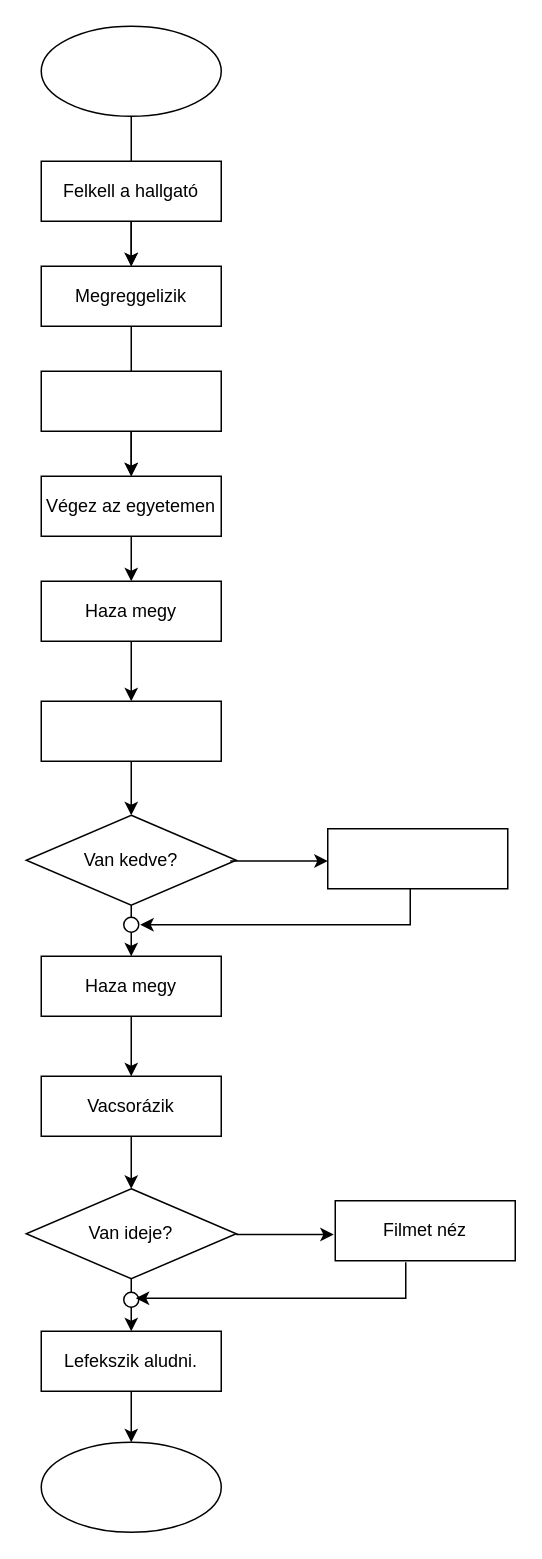
Some shapes in this 542 by 1559 pixel diagram are drawn without their labels. The shapes that lost their labels are listed below. From the top down, each one's centre as x and y in pixels, then its label:
At point 130,70: "START".
At point 130,400: "Elmegy az egyetemre".
At point 130,730: "Tanul".
At point 417,858: "Elmegy kávézni".
At point 130,1486: "STOP".
